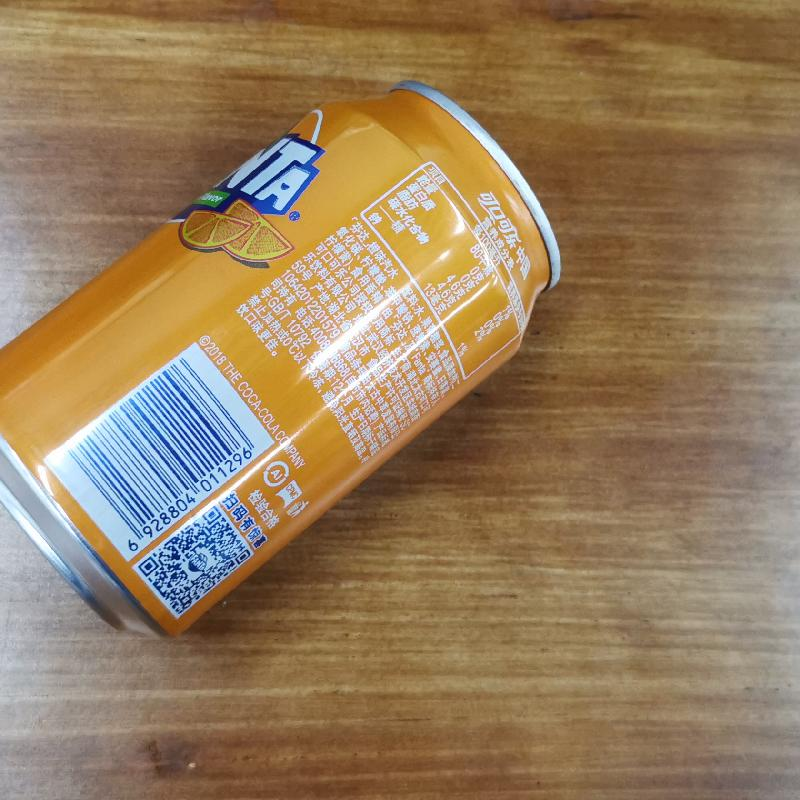cans: (4, 75, 559, 640)
